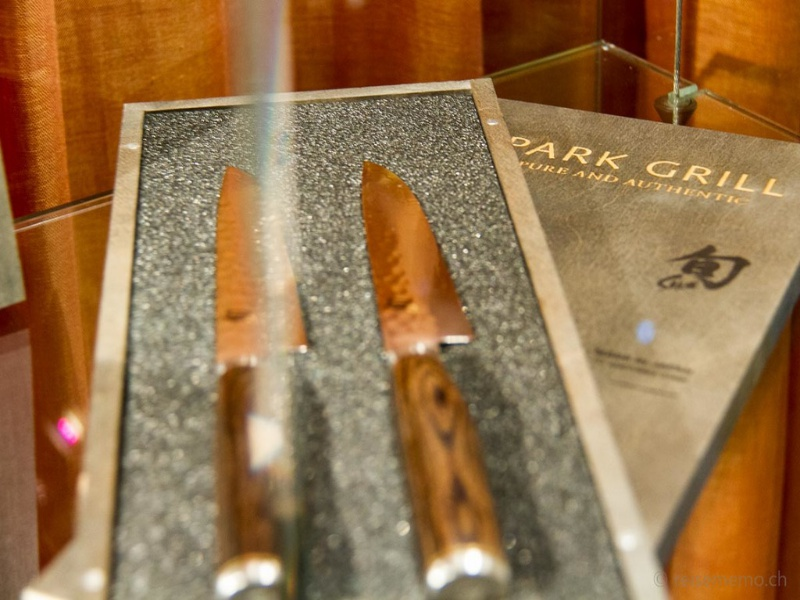knife: (357, 152, 520, 600), (210, 157, 321, 600)
